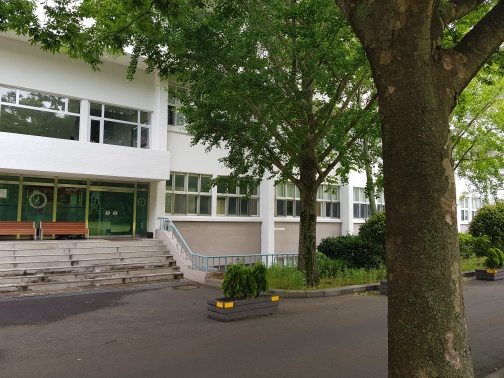Main Building of University: (9, 44, 358, 279), (15, 75, 185, 293)
